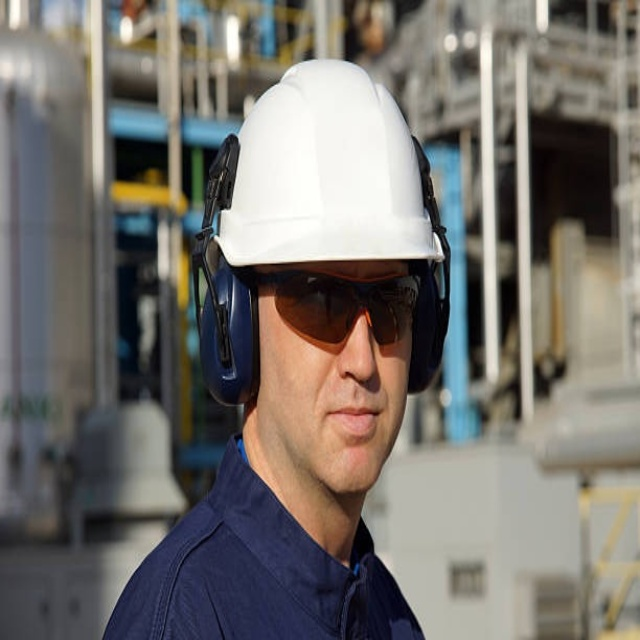Gafas: (252, 265, 421, 359)
Sin_mascara: (316, 389, 387, 482)
